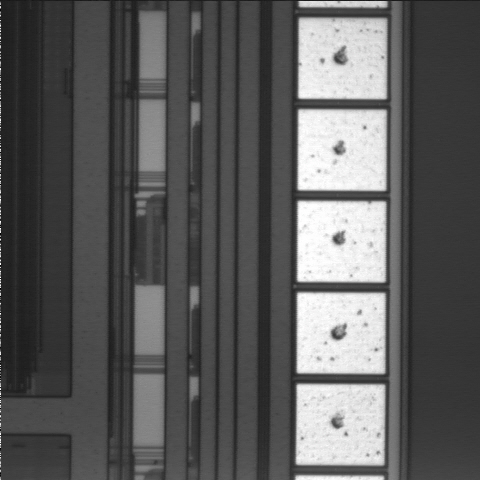pad: (298, 109, 386, 191), (298, 18, 387, 99), (297, 201, 386, 282), (296, 384, 385, 465), (297, 293, 385, 374)
